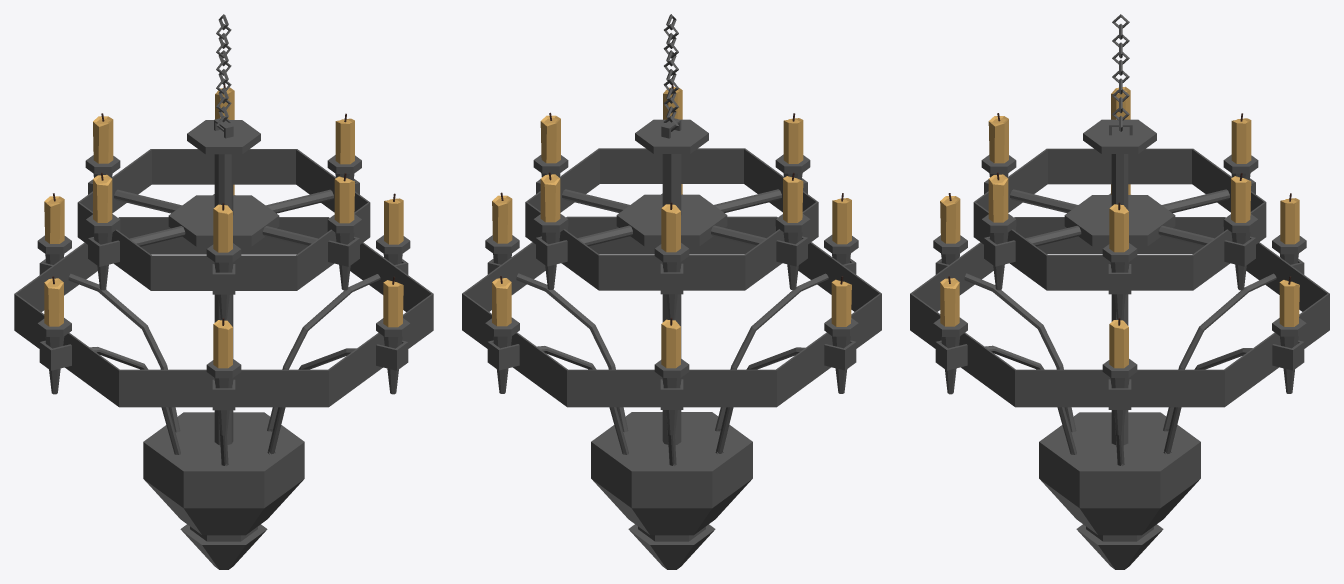
The model's file is Люстра.fbx.
3 renders of one model, left to right at view 1: azimuth 30°, elevation 25°; view 2: azimuth 150°, elevation 25°; view 3: azimuth 270°, elevation 25°, orthographic.
Visible parts, largest first — view 1: Circle.048; view 2: Circle.048; view 3: Circle.048.
Part boxes in pixels (x1,y1,x2,y2): Circle.048: (14, 14, 433, 569); Circle.048: (462, 14, 881, 569); Circle.048: (910, 14, 1329, 569).
Bounding box in the file's own units: 969 × 1404 × 966.
